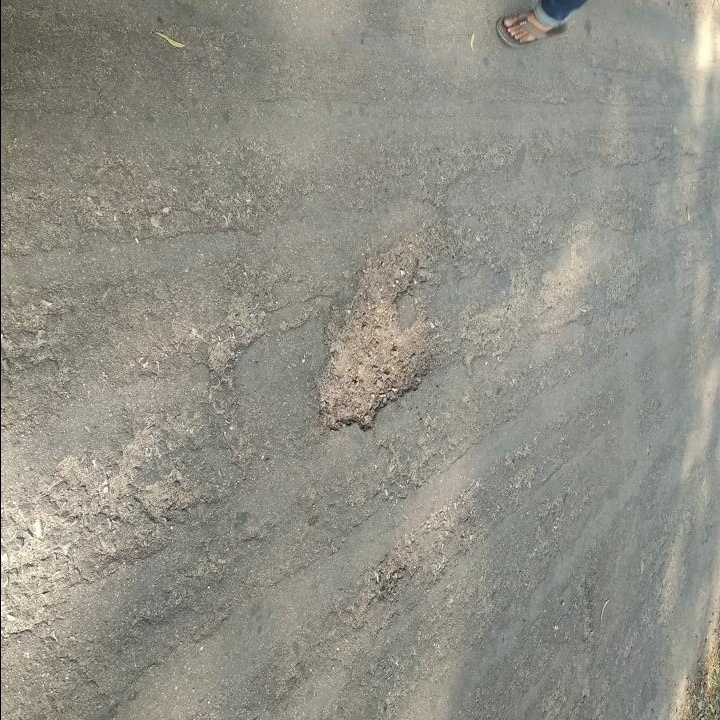pothole: (310, 227, 442, 438)
